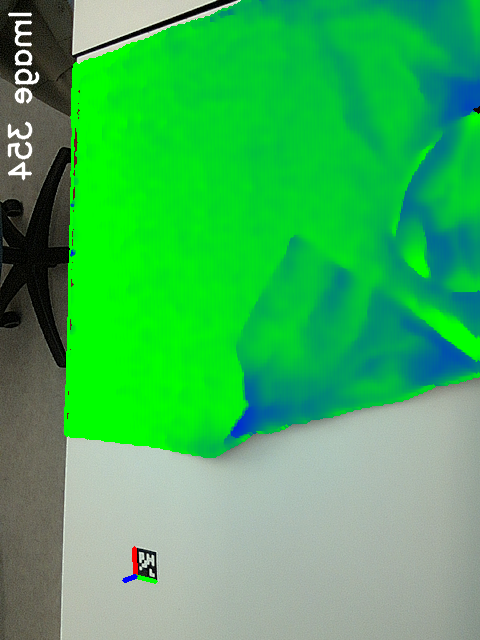V: (262, 211, 329, 279)
